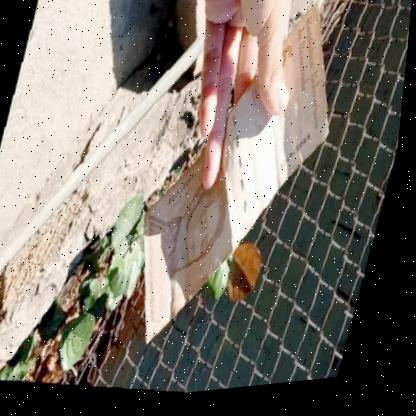five-front-vef: (119, 0, 361, 370)
